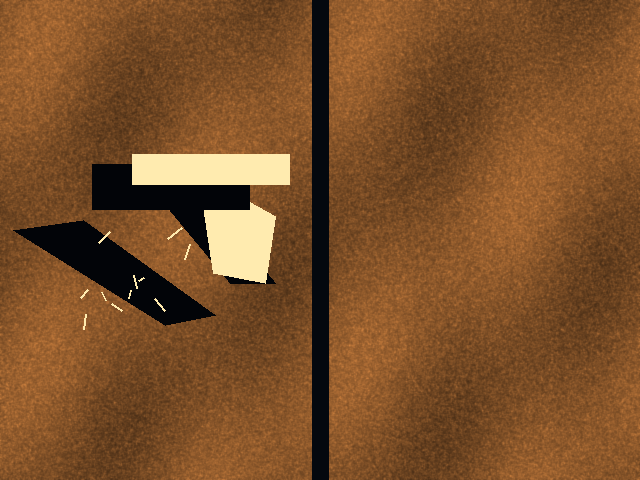Ghost Net: (73, 220, 225, 315)
Metal Object: (132, 154, 289, 184)
Unknown Debris: (203, 196, 275, 283)
